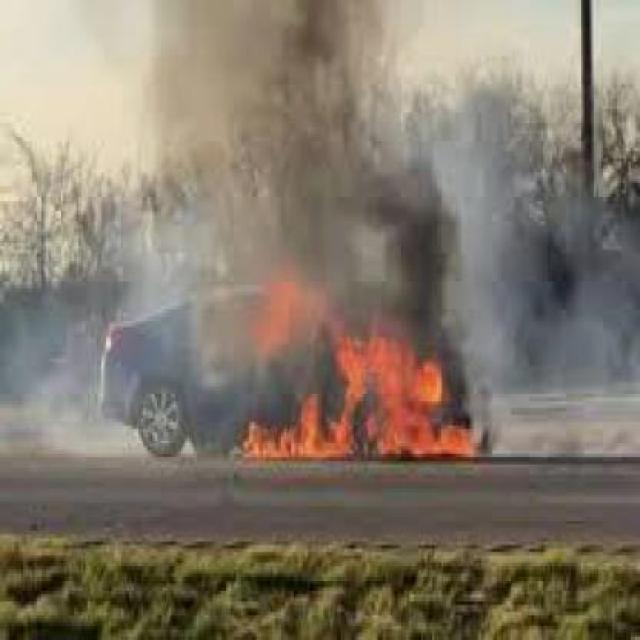Fire: (243, 316, 492, 489), (245, 270, 326, 358)
Smoke: (136, 0, 415, 275), (447, 38, 640, 407)
